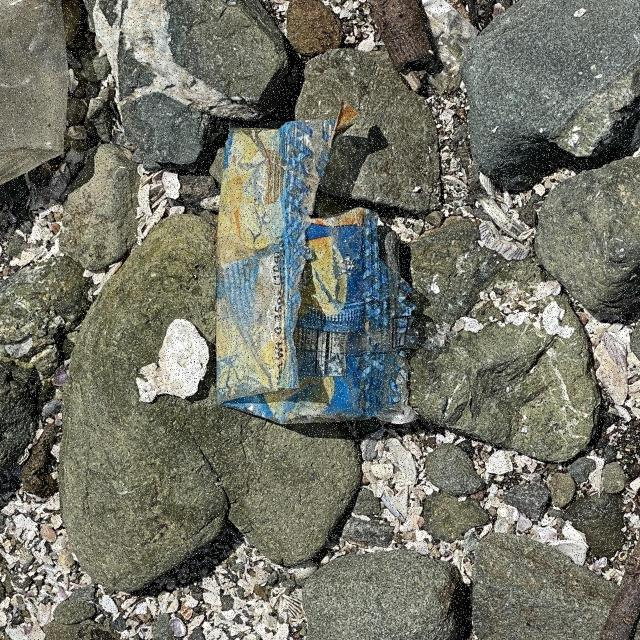plastic_waste: (215, 117, 403, 425), (3, 1, 72, 206)
